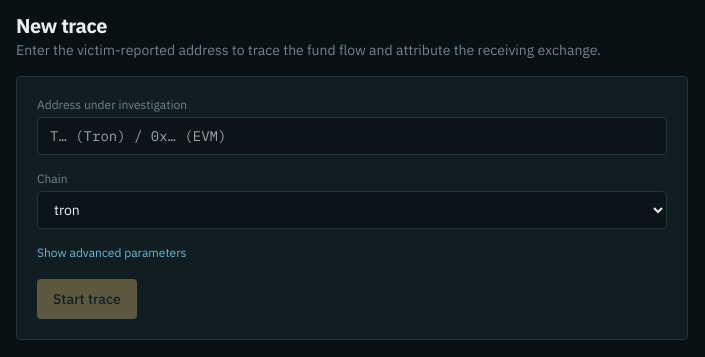
Test: surfaces the backend's rejection reason inline — e.g. an unsupported chain
Type "0x0000000000000000000000000000000000dEaD" into the field labelled "Address under investigation".
click(352, 136); type("0x0000000000000000000000000000000000dEaD")  # box [37,117,667,155]
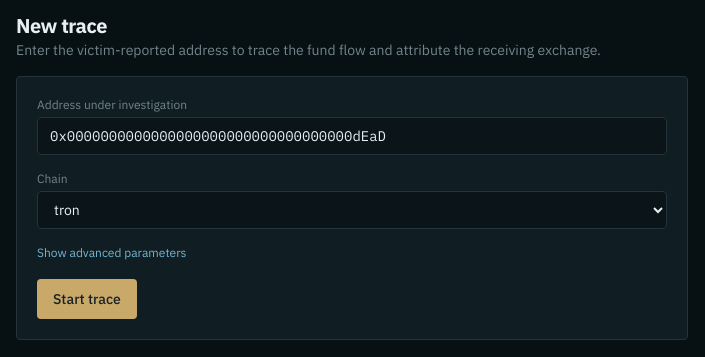
Select "ethereum" in the dropdown labelled "Chain" at [352, 210], box [37,191,667,229]
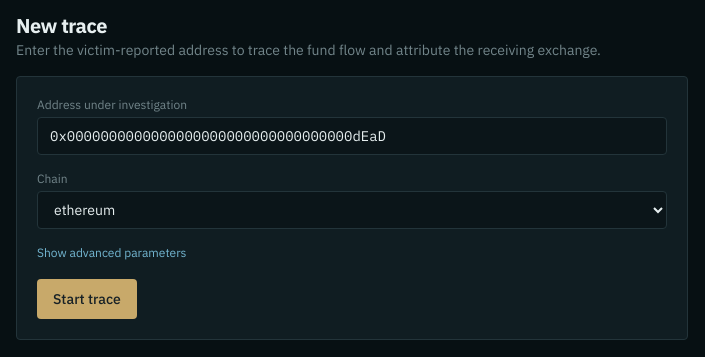
Click the button "Start trace".
click(87, 299)  # box [37,279,137,319]
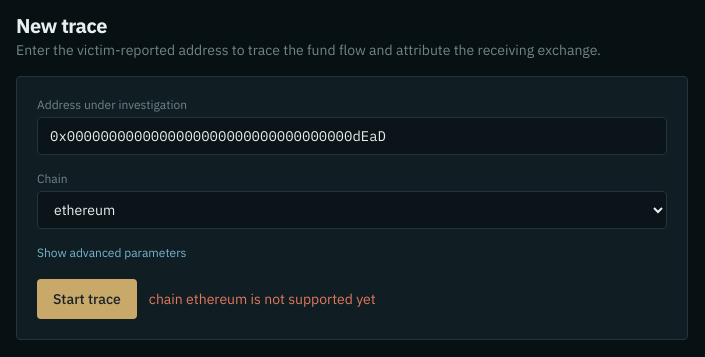
Check: the message reads "chain ethereum is not supported yet", box [149,290,376,308]
